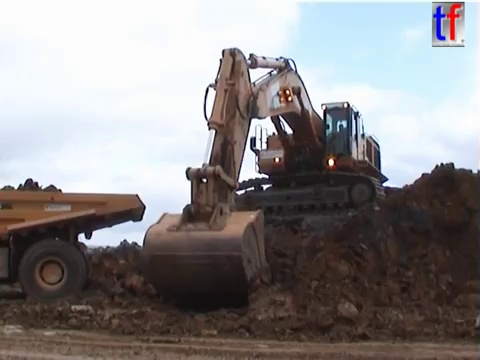excavator: (139, 44, 394, 311)
truck: (1, 185, 150, 310)
